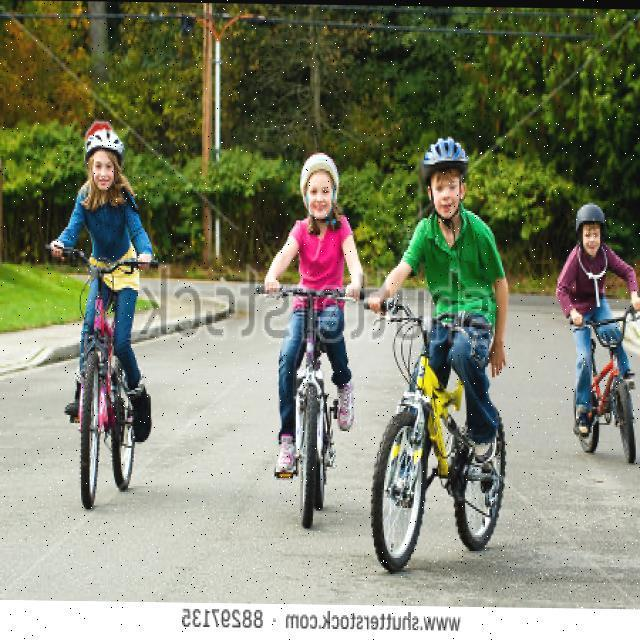Helmet: (290, 135, 354, 230), (419, 126, 474, 218)
